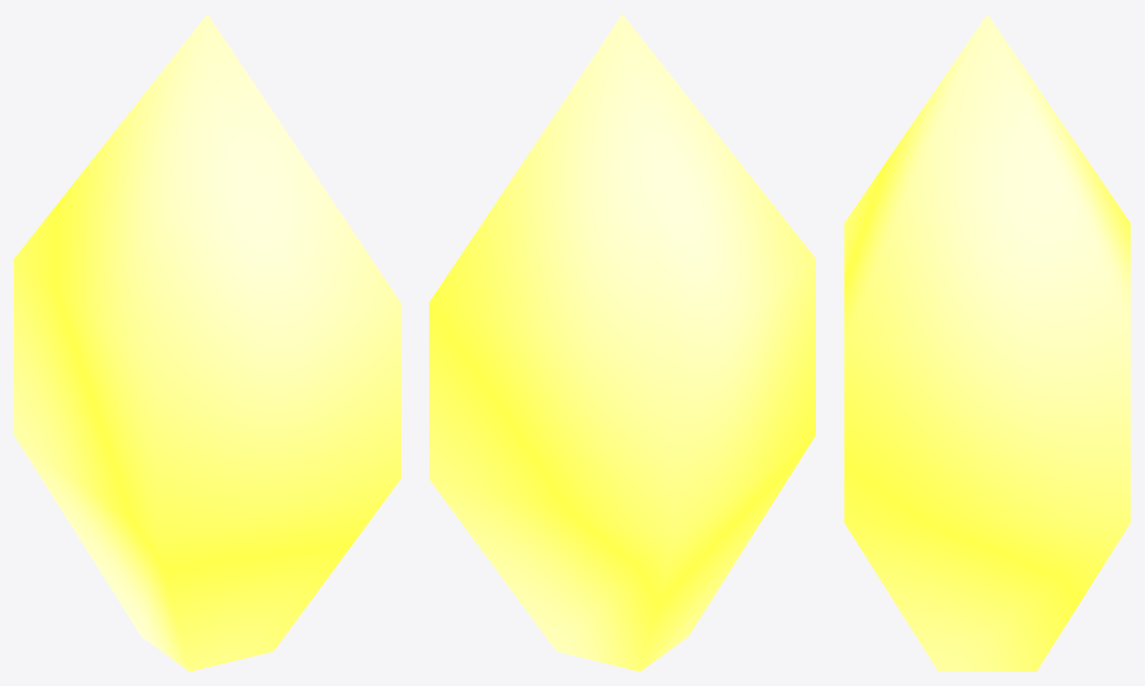
File: SFV_Candle_Flame.fbx
The picture shows the model from 3 angles, left to right: view 1: azimuth 30°, elevation 25°; view 2: azimuth 150°, elevation 25°; view 3: azimuth 270°, elevation 25°; orthographic projection.
Parts seen in each view (by area): view 1: SFV_Candle_Flame; view 2: SFV_Candle_Flame; view 3: SFV_Candle_Flame.
Part boxes in pixels (box(x1,y1,x2,y2)): SFV_Candle_Flame: box(14, 14, 400, 671); SFV_Candle_Flame: box(429, 14, 815, 671); SFV_Candle_Flame: box(844, 14, 1130, 671).
Bounding box in the file's own units: 1.61 × 3.94 × 1.61.
